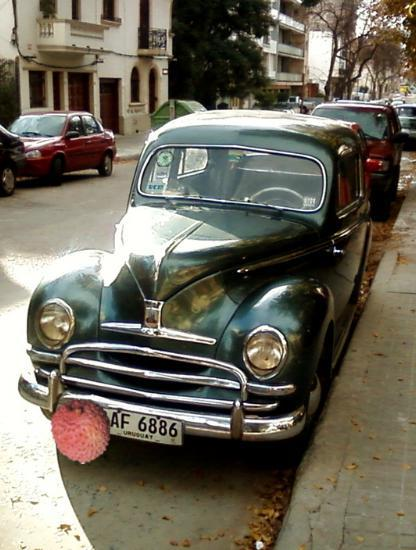Lychee: (48, 398, 115, 465)
